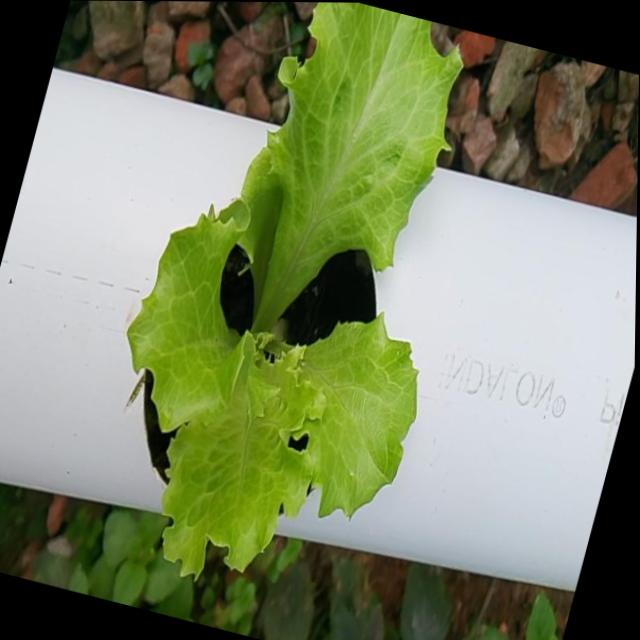Baby: (124, 2, 456, 583)
